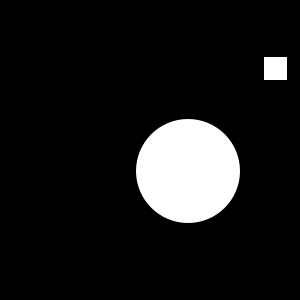circle: (264, 57, 287, 80)
rectangle: (136, 119, 240, 223)
